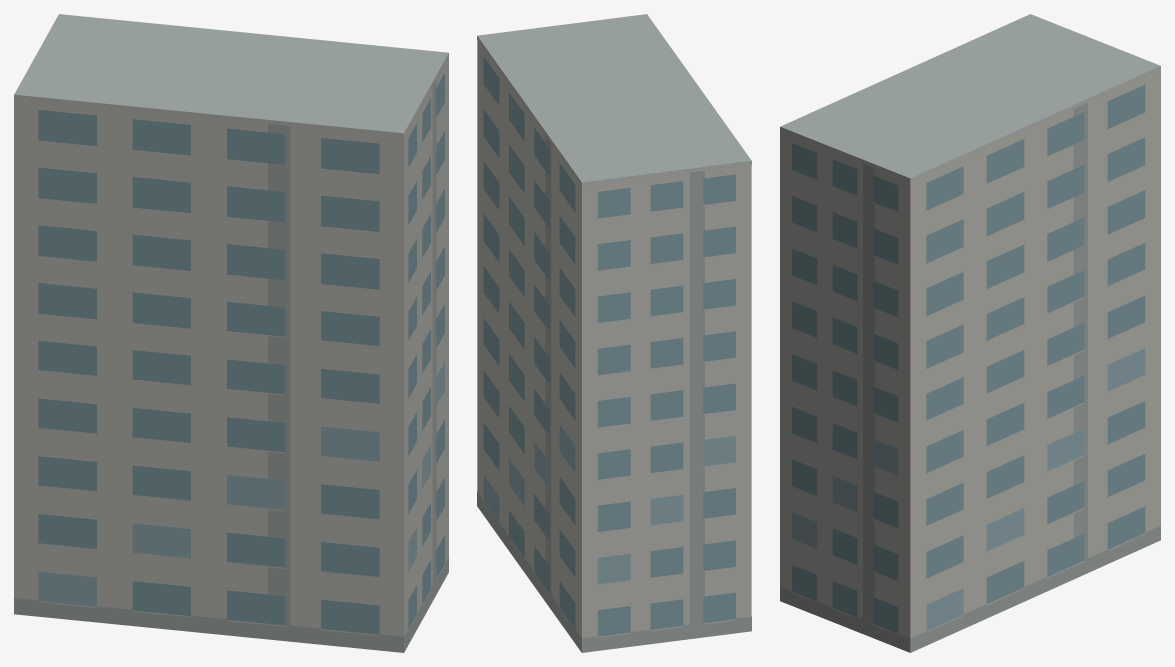
Rendered from residential-600b4726-39ba-4d5b-b7ad-53803ba62ef0.glb.
The picture shows the model from 3 angles, left to right: view 1: azimuth 30°, elevation 25°; view 2: azimuth 150°, elevation 25°; view 3: azimuth 270°, elevation 25°; orthographic projection. The views are drawn at different scales.
Visible parts, largest first — view 1: residential-600b4726-39ba-4d5b-b7ad-53803ba62ef0.tmp; view 2: residential-600b4726-39ba-4d5b-b7ad-53803ba62ef0.tmp; view 3: residential-600b4726-39ba-4d5b-b7ad-53803ba62ef0.tmp.
Boxes of the visible parts, x1=… form: residential-600b4726-39ba-4d5b-b7ad-53803ba62ef0.tmp: x1=14, y1=14, x2=448, y2=652; residential-600b4726-39ba-4d5b-b7ad-53803ba62ef0.tmp: x1=477, y1=14, x2=751, y2=652; residential-600b4726-39ba-4d5b-b7ad-53803ba62ef0.tmp: x1=780, y1=14, x2=1160, y2=652.
Size of the model in its own units: 22.31 by 30 by 21.83.
